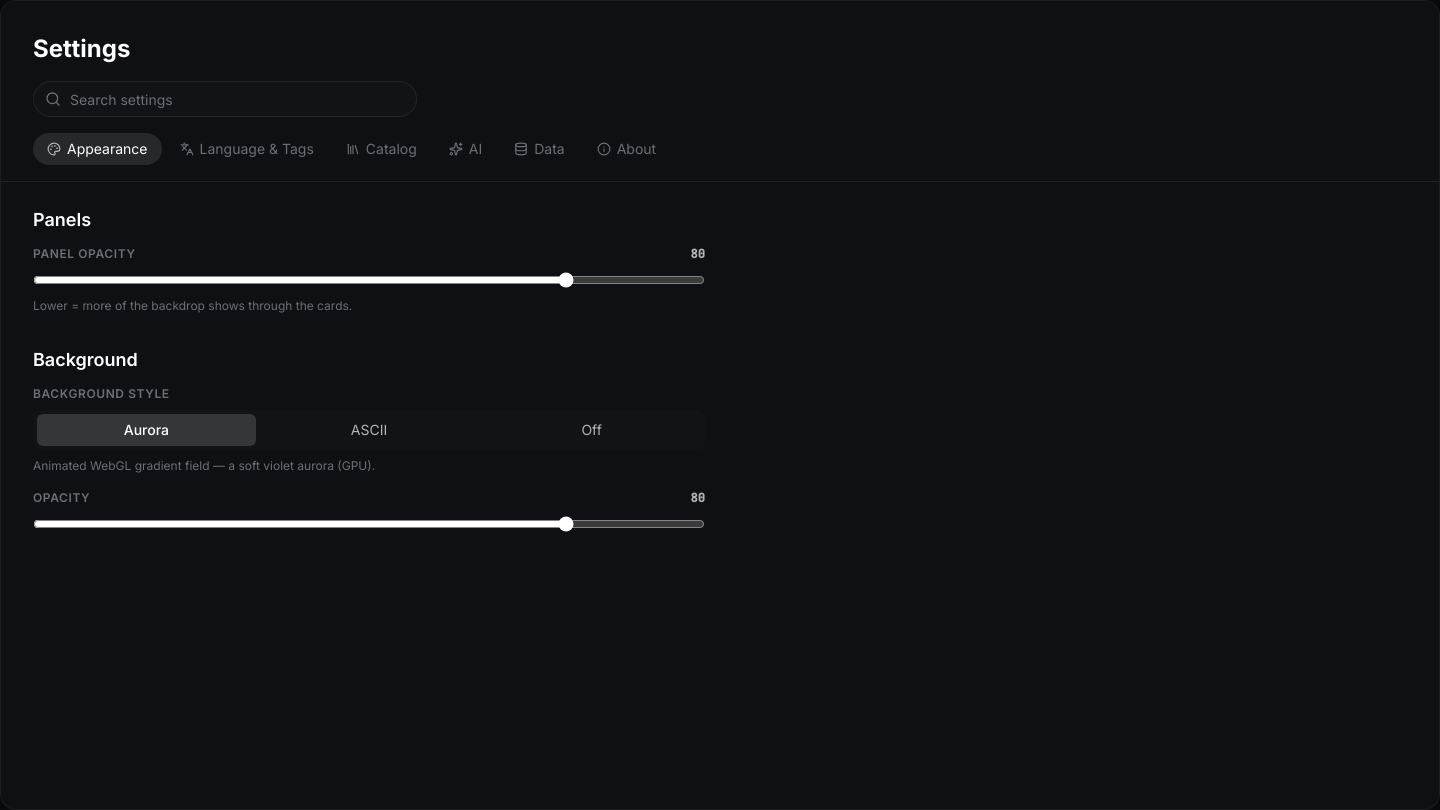
Test: SettingsPanel › Producers section › shows empty-state copy when there are no producers yet
Click the tab "Catalog".
click(381, 149)  # box [332,133,431,165]
(page scrolled)
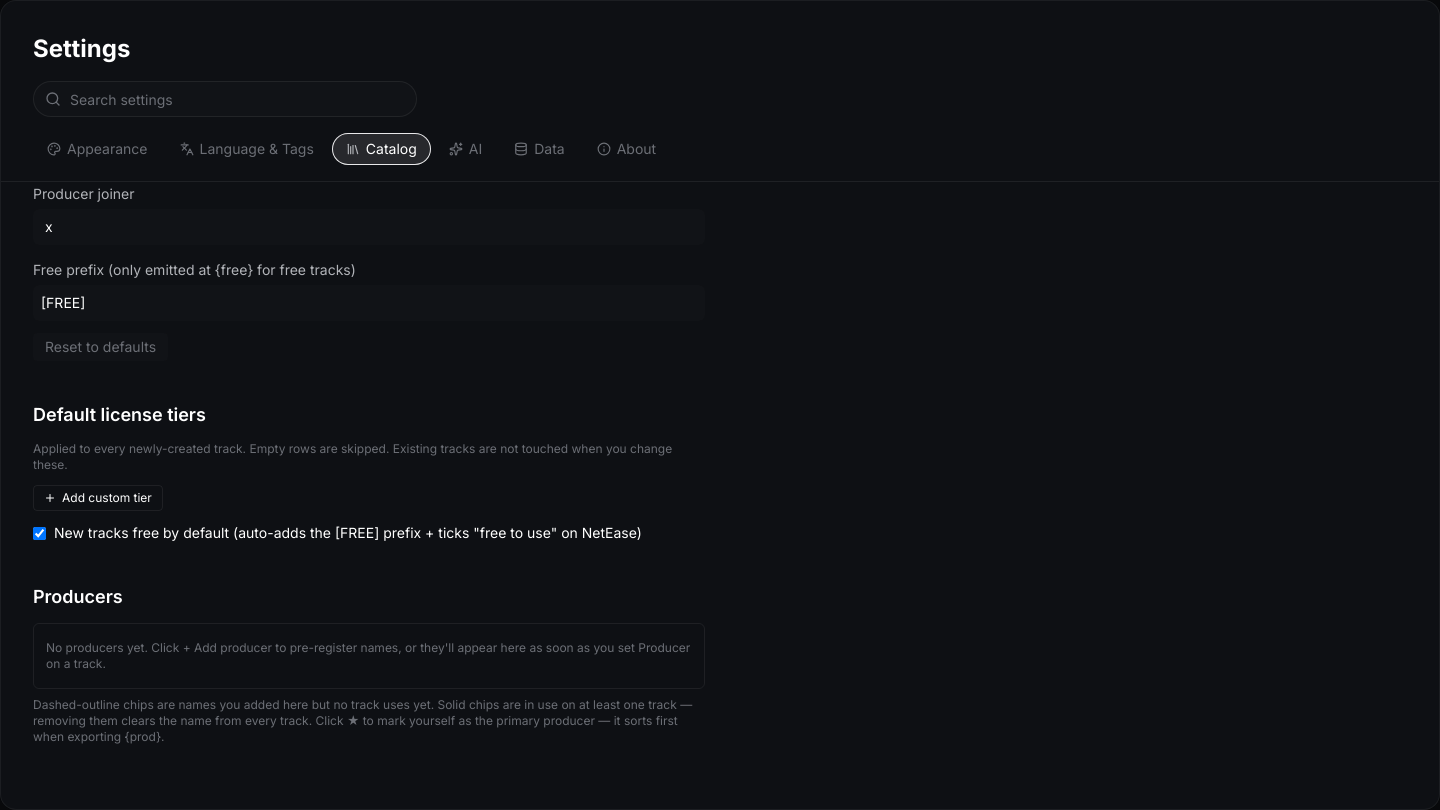
Now the text "No producers yet" is shown, box [46,640,690,671]
